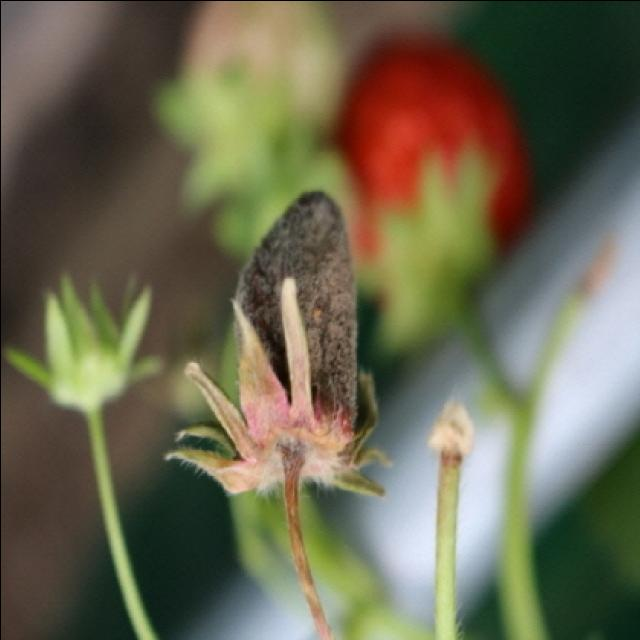Gray Mold: (163, 189, 394, 539)
